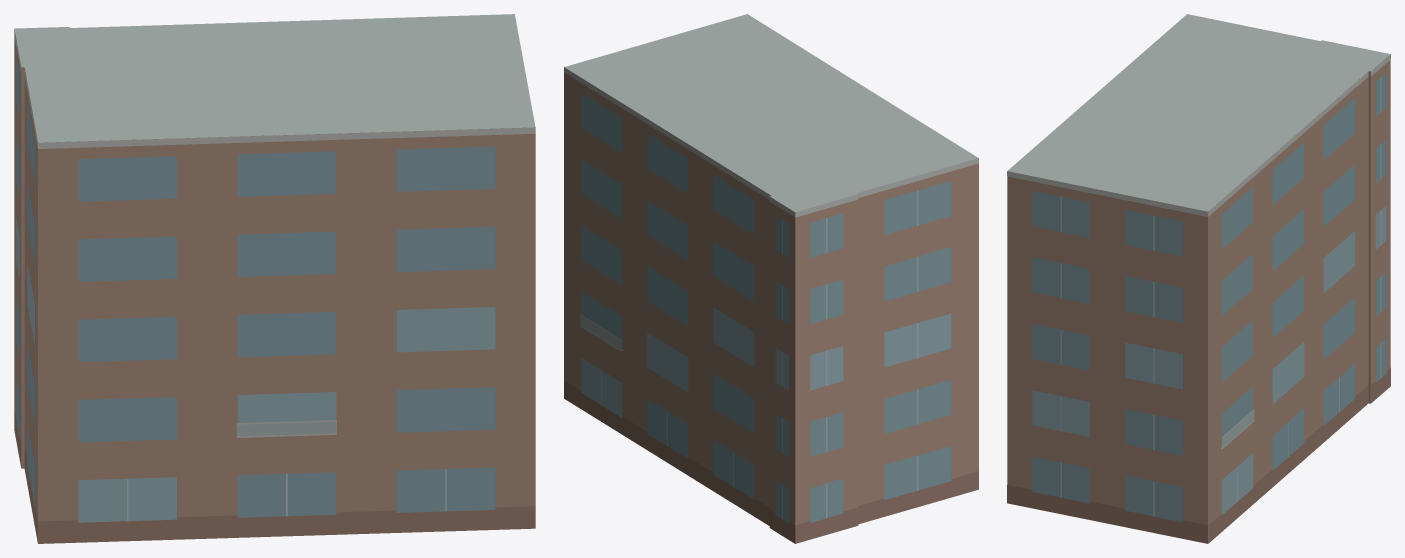
Rendered from survey-upis-32890170.glb.
3 views of the same model, side by side, from view 1: azimuth 30°, elevation 25°; view 2: azimuth 150°, elevation 25°; view 3: azimuth 270°, elevation 25° (orthographic). The views are drawn at different scales.
Visible parts, largest first — view 1: survey-upis-32890170.tmp; view 2: survey-upis-32890170.tmp; view 3: survey-upis-32890170.tmp.
Part boxes in pixels (left/top/right/bottom): survey-upis-32890170.tmp: left=14, top=14, right=535, bottom=543; survey-upis-32890170.tmp: left=564, top=14, right=978, bottom=543; survey-upis-32890170.tmp: left=1007, top=14, right=1390, bottom=543.
Size of the model in its own units: 19.54 by 15.3 by 16.02.
